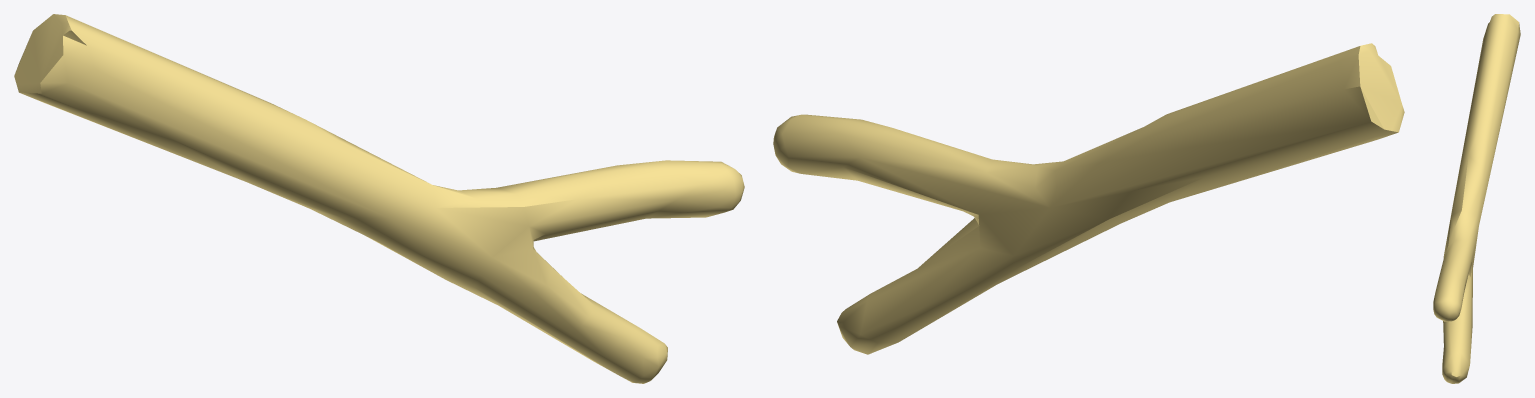
Rendered from fma65366_fj4276.glb.
3 views of the same model, side by side, from view 1: azimuth 30°, elevation 25°; view 2: azimuth 150°, elevation 25°; view 3: azimuth 270°, elevation 25° (orthographic). The views are drawn at different scales.
Parts seen in each view (by area): view 1: FMA65366_FJ4276; view 2: FMA65366_FJ4276; view 3: FMA65366_FJ4276.
Part boxes in pixels (x1,y1,x2,y2): FMA65366_FJ4276: (14, 14, 744, 383); FMA65366_FJ4276: (773, 43, 1404, 354); FMA65366_FJ4276: (1433, 14, 1520, 383).
Bounding box in the file's own units: 0.0328 × 0.0218 × 0.00727.
